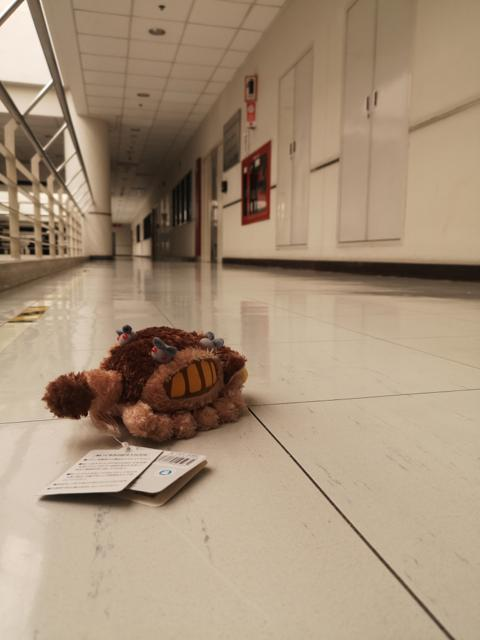nekobus: (39, 319, 253, 449)
